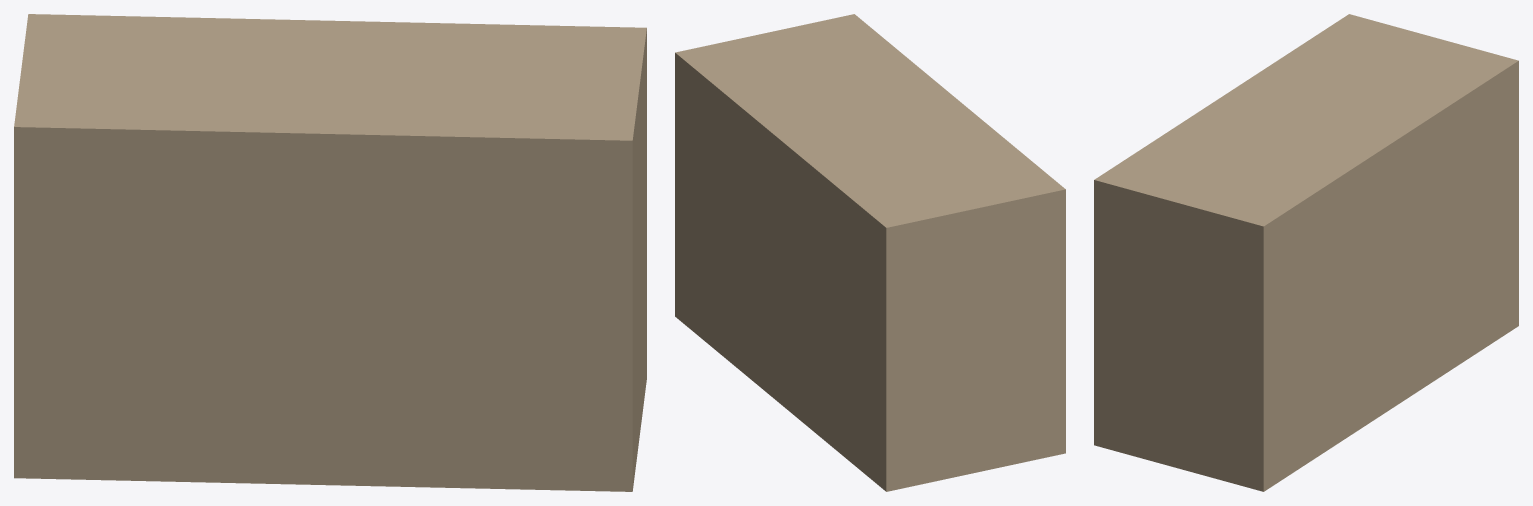
Rendered from bld_163484238.dae.
3 views of the same model, side by side, from view 1: azimuth 30°, elevation 25°; view 2: azimuth 150°, elevation 25°; view 3: azimuth 270°, elevation 25° (orthographic). The views are drawn at different scales.
Parts seen in each view (by area): view 1: bld_163484238; view 2: bld_163484238; view 3: bld_163484238.
Part boxes in pixels (<box>): bld_163484238: <box>14,14,646,491</box>; bld_163484238: <box>675,14,1065,491</box>; bld_163484238: <box>1094,14,1518,491</box>.
Bounding box in the file's own units: 13.74 × 11.6 × 8.
